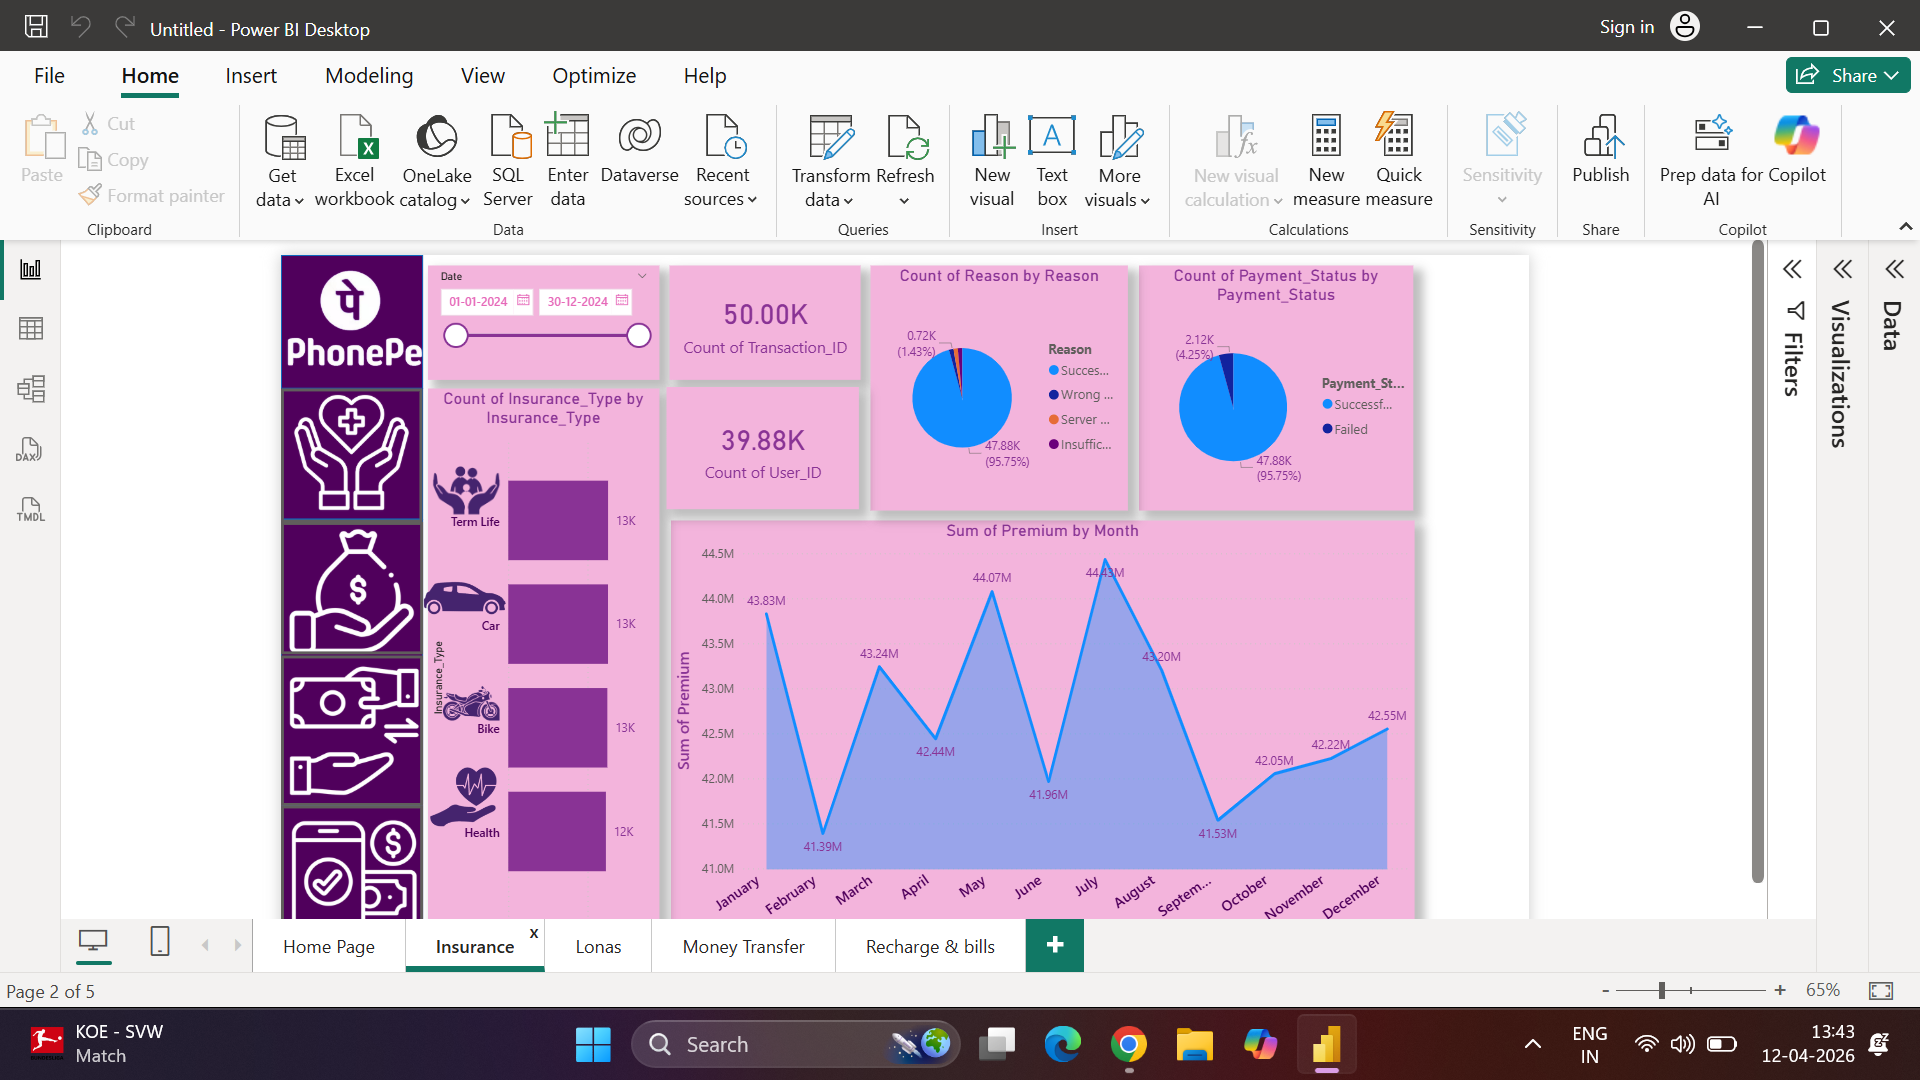

The page's visual inventory and layout, read from the dashboard file:
{"tool":"powerbi","page":{"name":"Insurance","canvas":[1280,720],"ordinal":1},"visuals":[{"type":"shape","box":[0,0,145.7,137.1],"z":0},{"type":"shape","box":[0,137.1,145.7,134.3],"z":1000},{"type":"shape","box":[0,271.4,145.7,141.4],"z":2000},{"type":"shape","box":[0,412.9,145.7,151.4],"z":3000},{"type":"shape","box":[0,564.3,145.7,155.7],"z":4000},{"type":"image","box":[0,0,150,137.1],"z":5000},{"type":"image","box":[0,272.9,150,141.4],"z":6000},{"type":"image","box":[0,412.9,150,151.4],"z":7000},{"type":"image","box":[0,564.3,150,155.7],"z":8000},{"type":"slicer","fields":{"Values":["Insurance.Date"]},"box":[150,10,237.1,117.1],"z":9000},{"type":"card","fields":{"Values":["Count(Insurance.Transaction_ID)"]},"box":[398.6,10,195.7,117.1],"z":10000},{"type":"pieChart","fields":{"Category":["Insurance.Payment_Status"],"Y":["CountNonNull(Insurance.Payment_Status)"]},"box":[880,10,281.4,251.4],"z":11000},{"type":"lineChart","fields":{"Category":["Insurance.Date.Variation.Date Hierarchy.Month"],"Y":["Sum(Insurance.Premium)"]},"box":[400,272.5,762.5,447.5],"z":12000},{"type":"clusteredBarChart","fields":{"Category":["Insurance.Insurance_Type"],"Y":["CountNonNull(Insurance.Insurance_Type)"]},"box":[150,137.1,237.1,582.9],"z":13000},{"type":"actionButton","box":[0,137.5,145,137.5],"z":14000},{"type":"actionButton","box":[0,274.3,145.7,135.7],"z":15000},{"type":"actionButton","box":[0,410,145.7,154.3],"z":16000},{"type":"actionButton","box":[0,564.3,145.7,155.7],"z":17000},{"type":"image","box":[0,0,150,137.1],"z":18000},{"type":"pieChart","fields":{"Category":["Insurance.Reason"],"Y":["CountNonNull(Insurance.Reason)"]},"box":[604.3,10,264.3,251.4],"z":19000},{"type":"card","fields":{"Values":["Count(Insurance.User_ID)"]},"box":[395,135,197.5,125],"z":20000},{"type":"image","box":[166.3,414.3,58.2,91.8],"z":21000},{"type":"image","box":[144.9,298,89.8,105.1],"z":22000},{"type":"image","box":[144.9,524.5,84.7,62.2],"z":23000},{"type":"image","box":[155.1,208.2,69.4,67.3],"z":24000},{"type":"image","box":[0,132.5,145,140],"z":25000}]}

Visuals, with their boxes on the page's 1280x720 design canvas (x1, y1, x2, y2). These are canvas units, not pixel positions in the 1920x1080 screenshot, which may show the page scaled, cropped or inside an application window:
shape: bbox=[0, 0, 146, 137]
shape: bbox=[0, 137, 146, 271]
shape: bbox=[0, 271, 146, 413]
shape: bbox=[0, 413, 146, 564]
shape: bbox=[0, 564, 146, 720]
image: bbox=[0, 0, 150, 137]
image: bbox=[0, 273, 150, 414]
image: bbox=[0, 413, 150, 564]
image: bbox=[0, 564, 150, 720]
slicer - Insurance.Date: bbox=[150, 10, 387, 127]
card - Count(Insurance.Transaction_ID): bbox=[399, 10, 594, 127]
pieChart - Insurance.Payment_Status x CountNonNull(Insurance.Payment_Status): bbox=[880, 10, 1161, 261]
lineChart - Insurance.Date.Variation.Date Hierarchy.Month x Sum(Insurance.Premium): bbox=[400, 272, 1162, 720]
clusteredBarChart - Insurance.Insurance_Type x CountNonNull(Insurance.Insurance_Type): bbox=[150, 137, 387, 720]
actionButton: bbox=[0, 138, 145, 275]
actionButton: bbox=[0, 274, 146, 410]
actionButton: bbox=[0, 410, 146, 564]
actionButton: bbox=[0, 564, 146, 720]
image: bbox=[0, 0, 150, 137]
pieChart - Insurance.Reason x CountNonNull(Insurance.Reason): bbox=[604, 10, 869, 261]
card - Count(Insurance.User_ID): bbox=[395, 135, 592, 260]
image: bbox=[166, 414, 224, 506]
image: bbox=[145, 298, 235, 403]
image: bbox=[145, 524, 230, 587]
image: bbox=[155, 208, 224, 276]
image: bbox=[0, 132, 145, 272]
